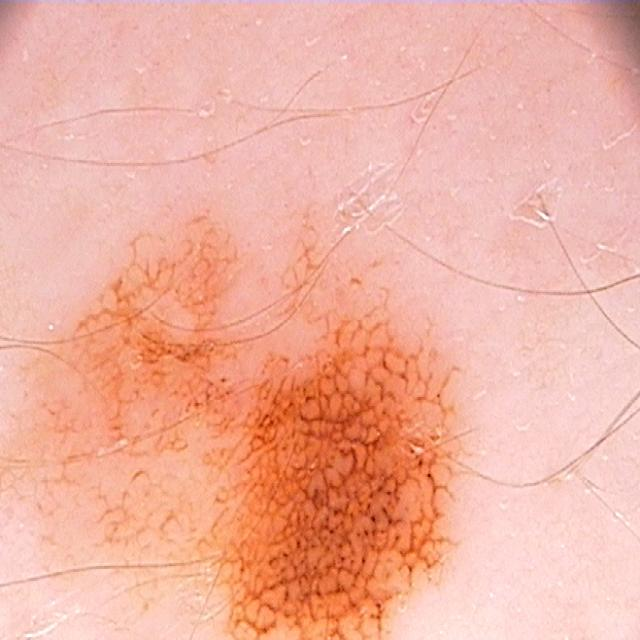Melanoma: (0, 120, 509, 640)
